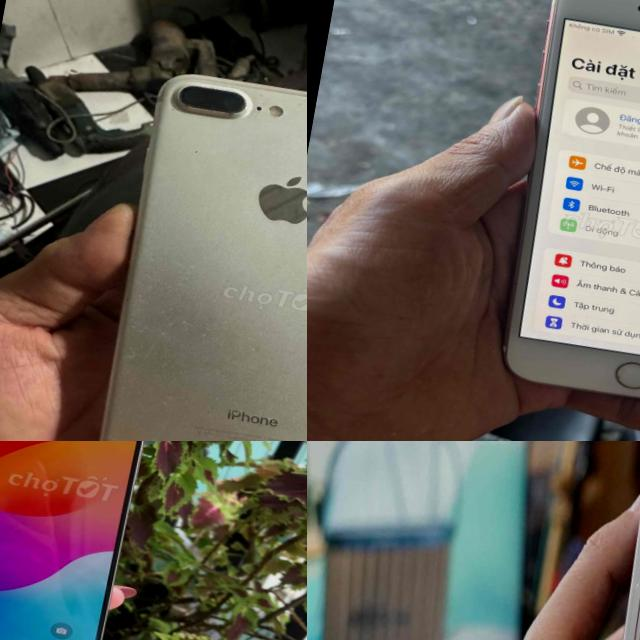scratch: (104, 244, 277, 394), (164, 74, 263, 124), (609, 363, 640, 389)
